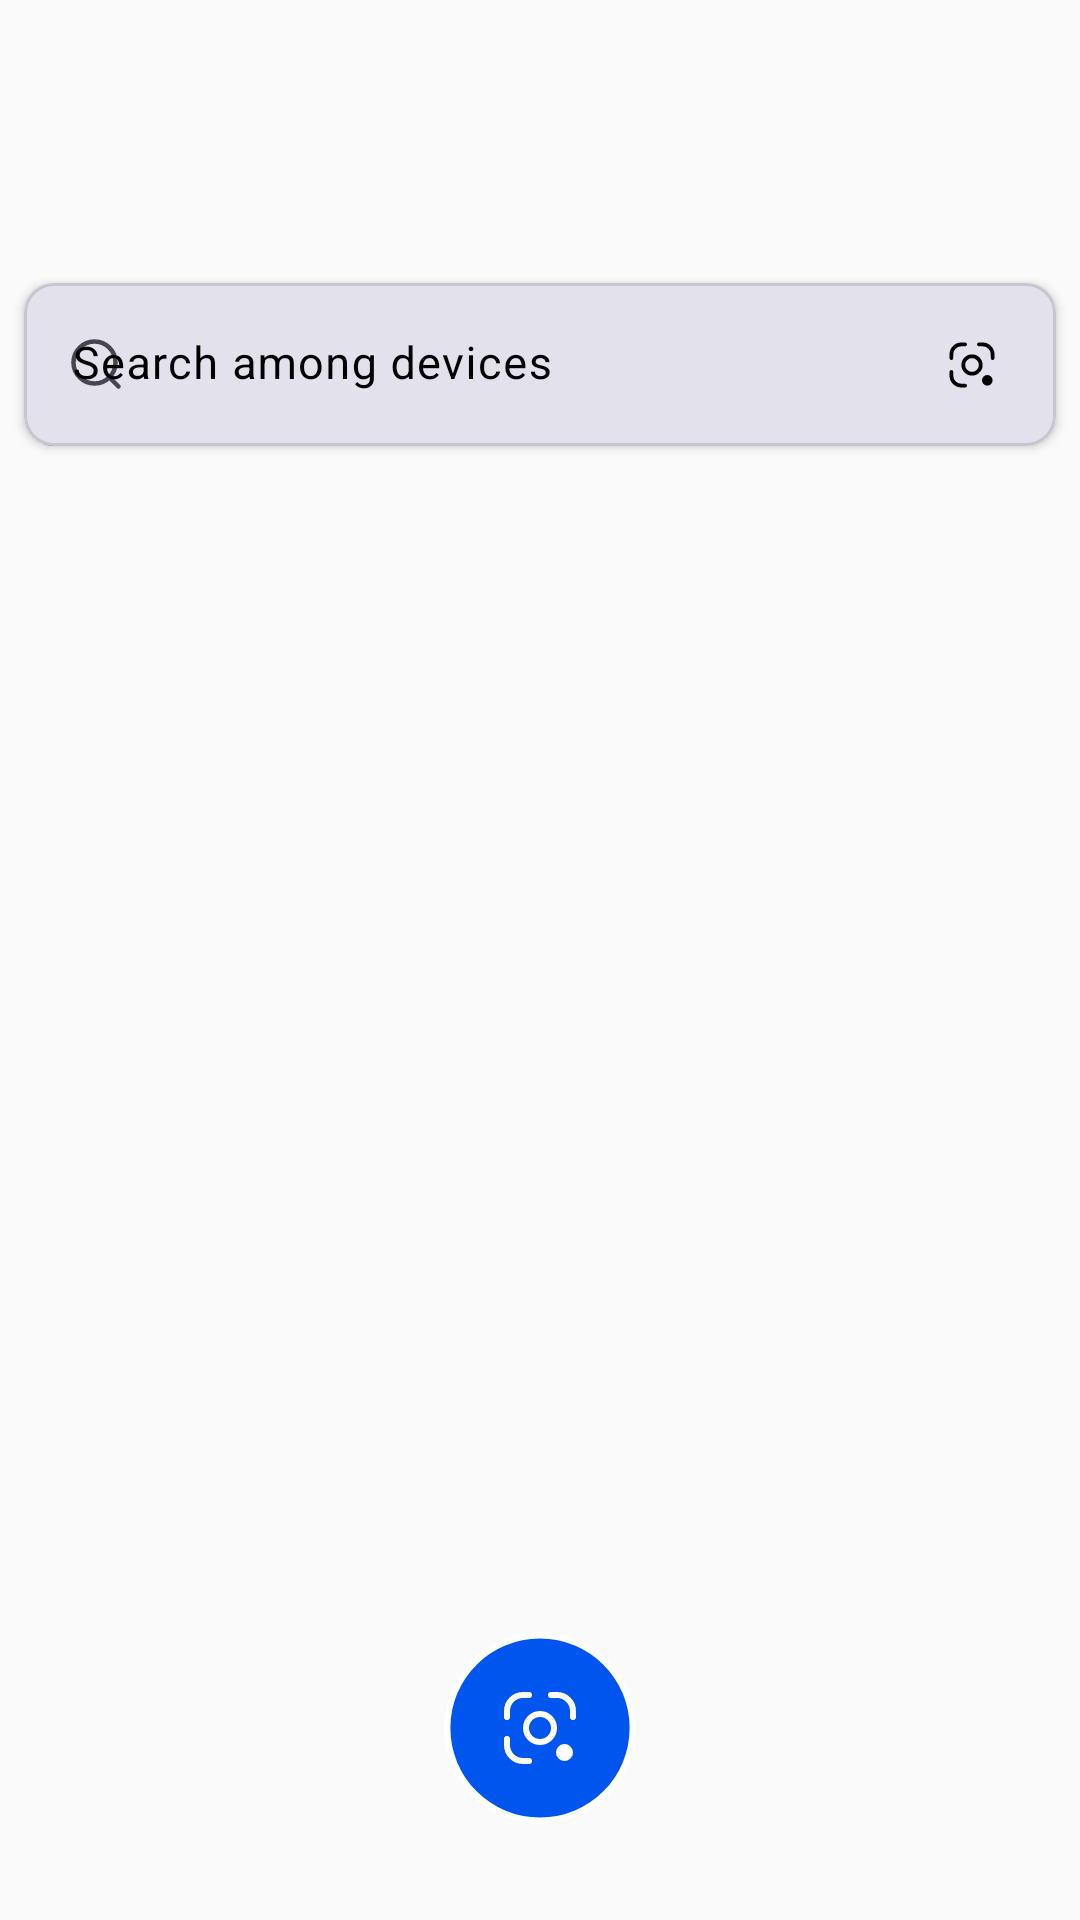

Named icons in this screenshot (1080px×1920px) and their bounding boxes, region(x1, y1, x2, y2):
Scan: region(949, 342, 995, 388), region(450, 1638, 630, 1818)
